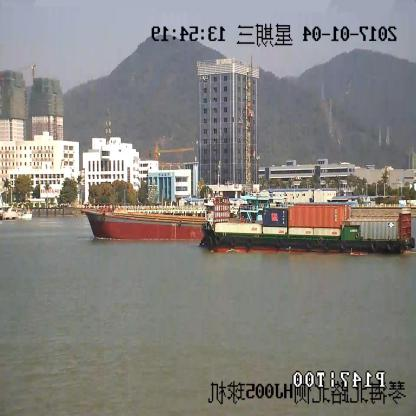Container Ship: (200, 197, 414, 254)
